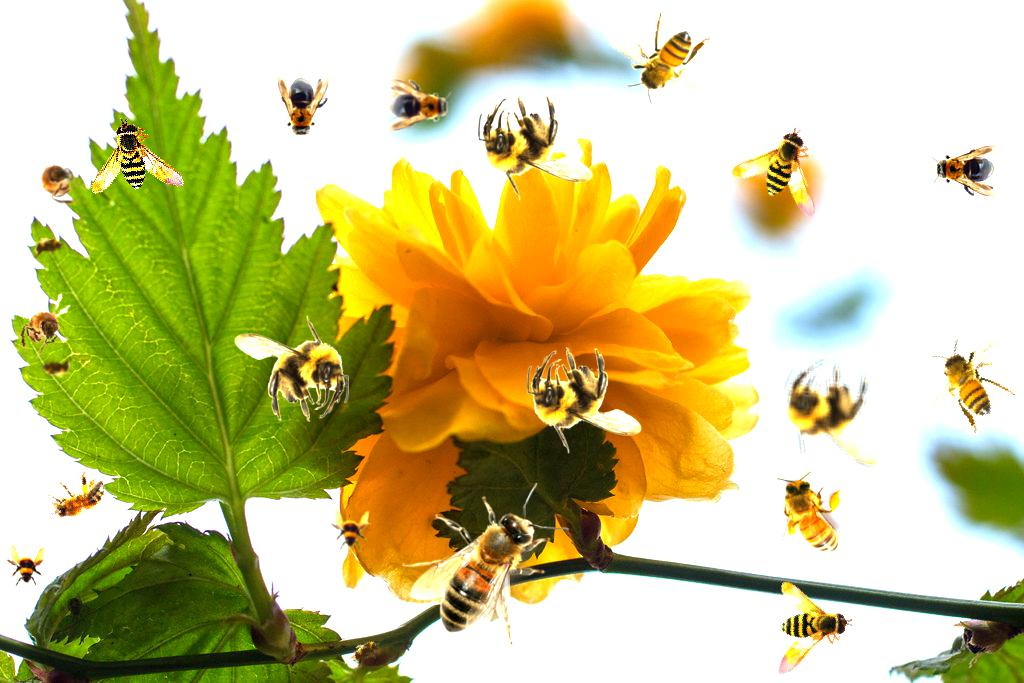Bee: (402, 483, 569, 645), (763, 347, 908, 488), (909, 313, 1024, 449), (82, 114, 200, 230), (726, 124, 840, 242), (737, 573, 857, 683), (527, 347, 642, 454), (234, 315, 349, 422), (478, 94, 593, 201), (606, 11, 717, 105), (776, 472, 844, 565), (35, 463, 115, 536), (7, 285, 78, 363), (18, 150, 88, 211), (385, 79, 453, 131), (931, 145, 999, 197), (277, 73, 329, 141), (327, 508, 371, 552), (3, 544, 47, 588), (344, 632, 390, 672), (27, 233, 71, 261), (36, 356, 76, 378)
